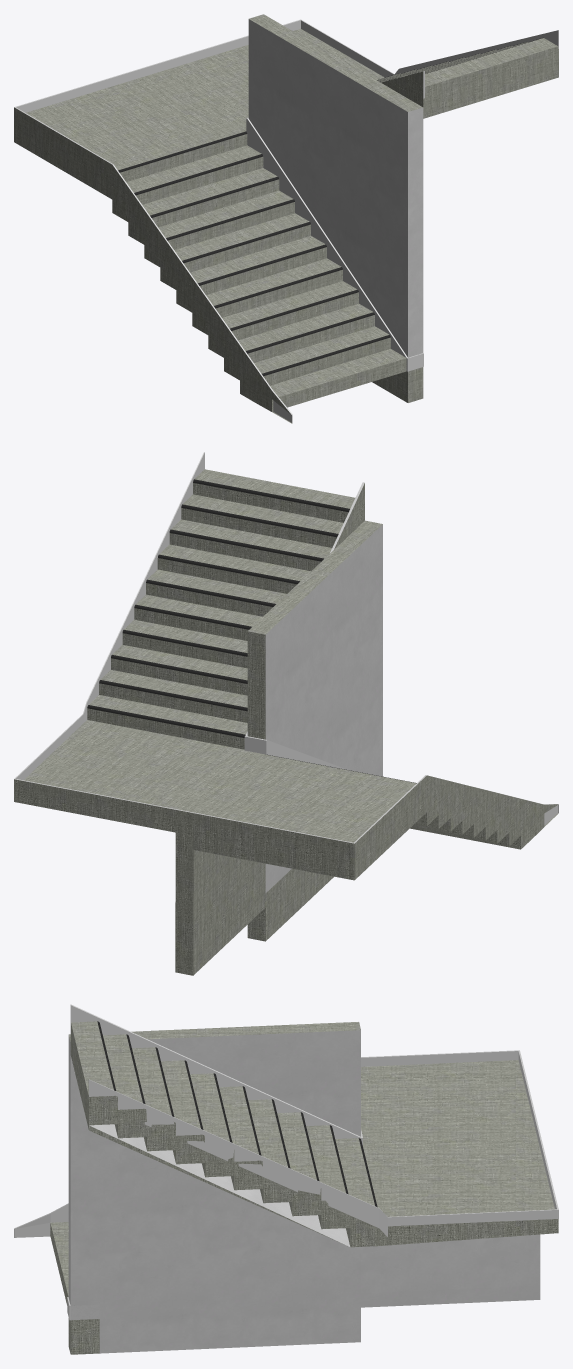
Rendered from 2_to_1_stair_1_sized.glb.
3 views of the same model, one above another, from view 1: azimuth 30°, elevation 25°; view 2: azimuth 150°, elevation 25°; view 3: azimuth 270°, elevation 25° (orthographic). The views are drawn at different scales.
Parts seen in each view (by area): view 1: Cube_073; view 2: Cube_073; view 3: Cube_073.
Part boxes in pixels (left/top/right/bottom): Cube_073: left=14, top=14, right=558, bottom=423; Cube_073: left=14, top=452, right=558, bottom=975; Cube_073: left=14, top=1004, right=558, bottom=1354.
Bounding box in the file's own units: 4.26 × 3.87 × 5.45.
5 materials, 3 textured.
